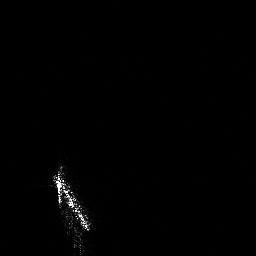ship: (50, 164, 94, 233)
